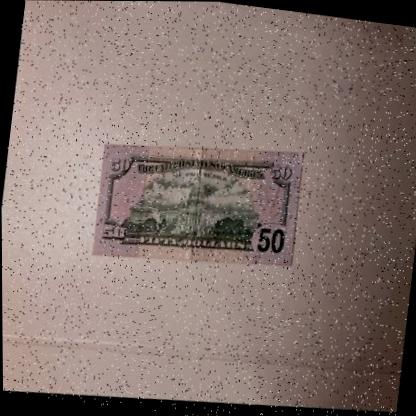dollar_back: (88, 130, 303, 282)
